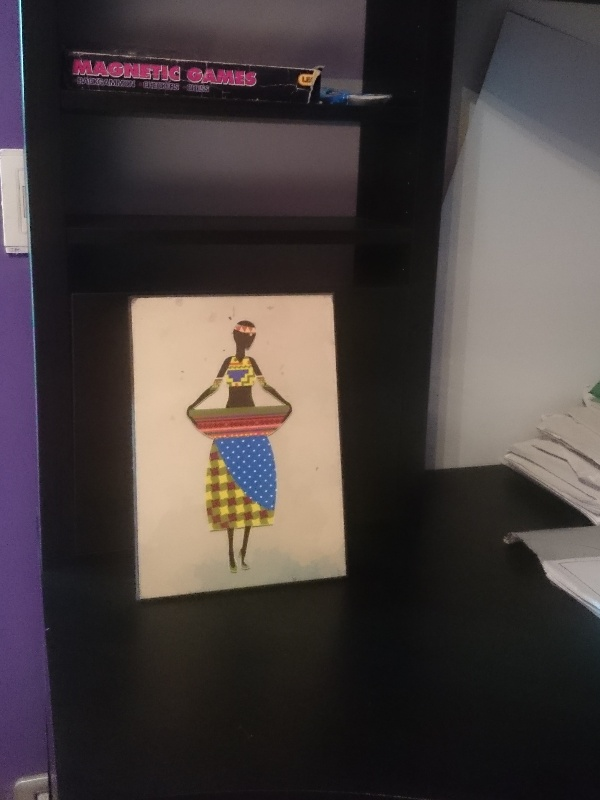my image: (131, 294, 345, 598)
